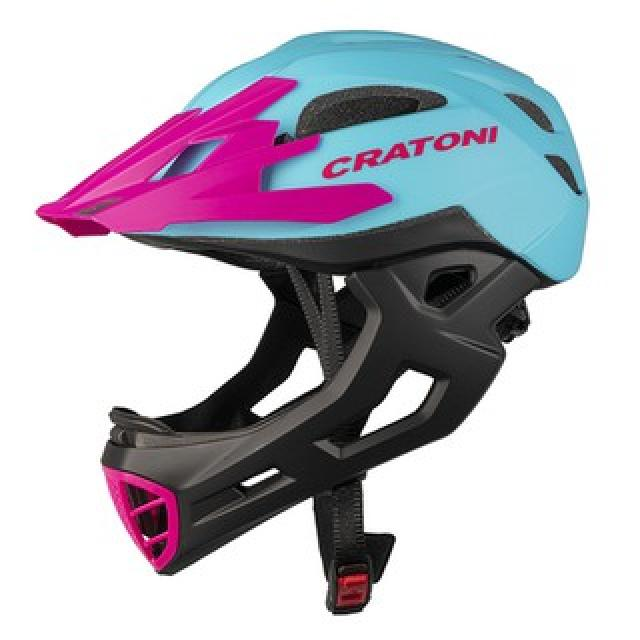Helmet: (30, 22, 596, 614)
